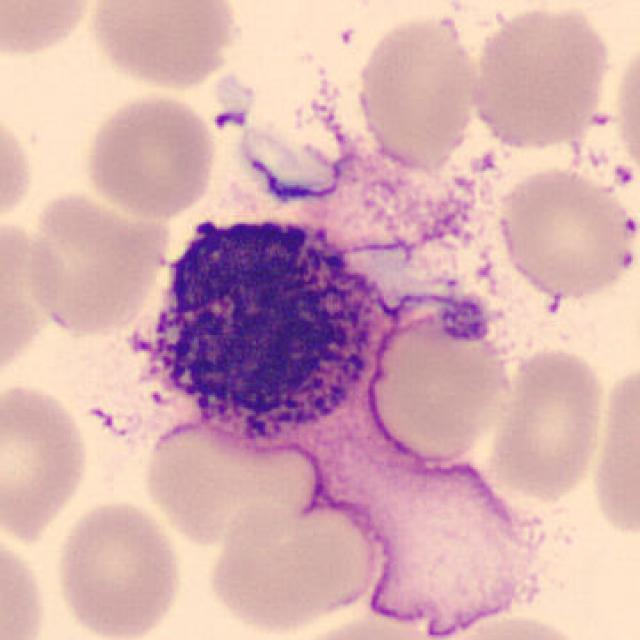Basophil: (116, 199, 398, 473)
Platelets: (208, 110, 249, 132)
RBC: (340, 439, 551, 640), (203, 488, 391, 636), (361, 291, 514, 464), (138, 411, 322, 548), (18, 185, 172, 340), (466, 2, 613, 153), (352, 9, 484, 169), (492, 164, 640, 301), (485, 342, 610, 503), (50, 497, 186, 640), (80, 90, 220, 220), (0, 377, 92, 544), (84, 0, 244, 92), (0, 212, 66, 384), (586, 356, 640, 543), (273, 606, 453, 640), (0, 523, 51, 640), (0, 0, 96, 60), (423, 608, 594, 640), (0, 104, 37, 229), (610, 32, 640, 185)
